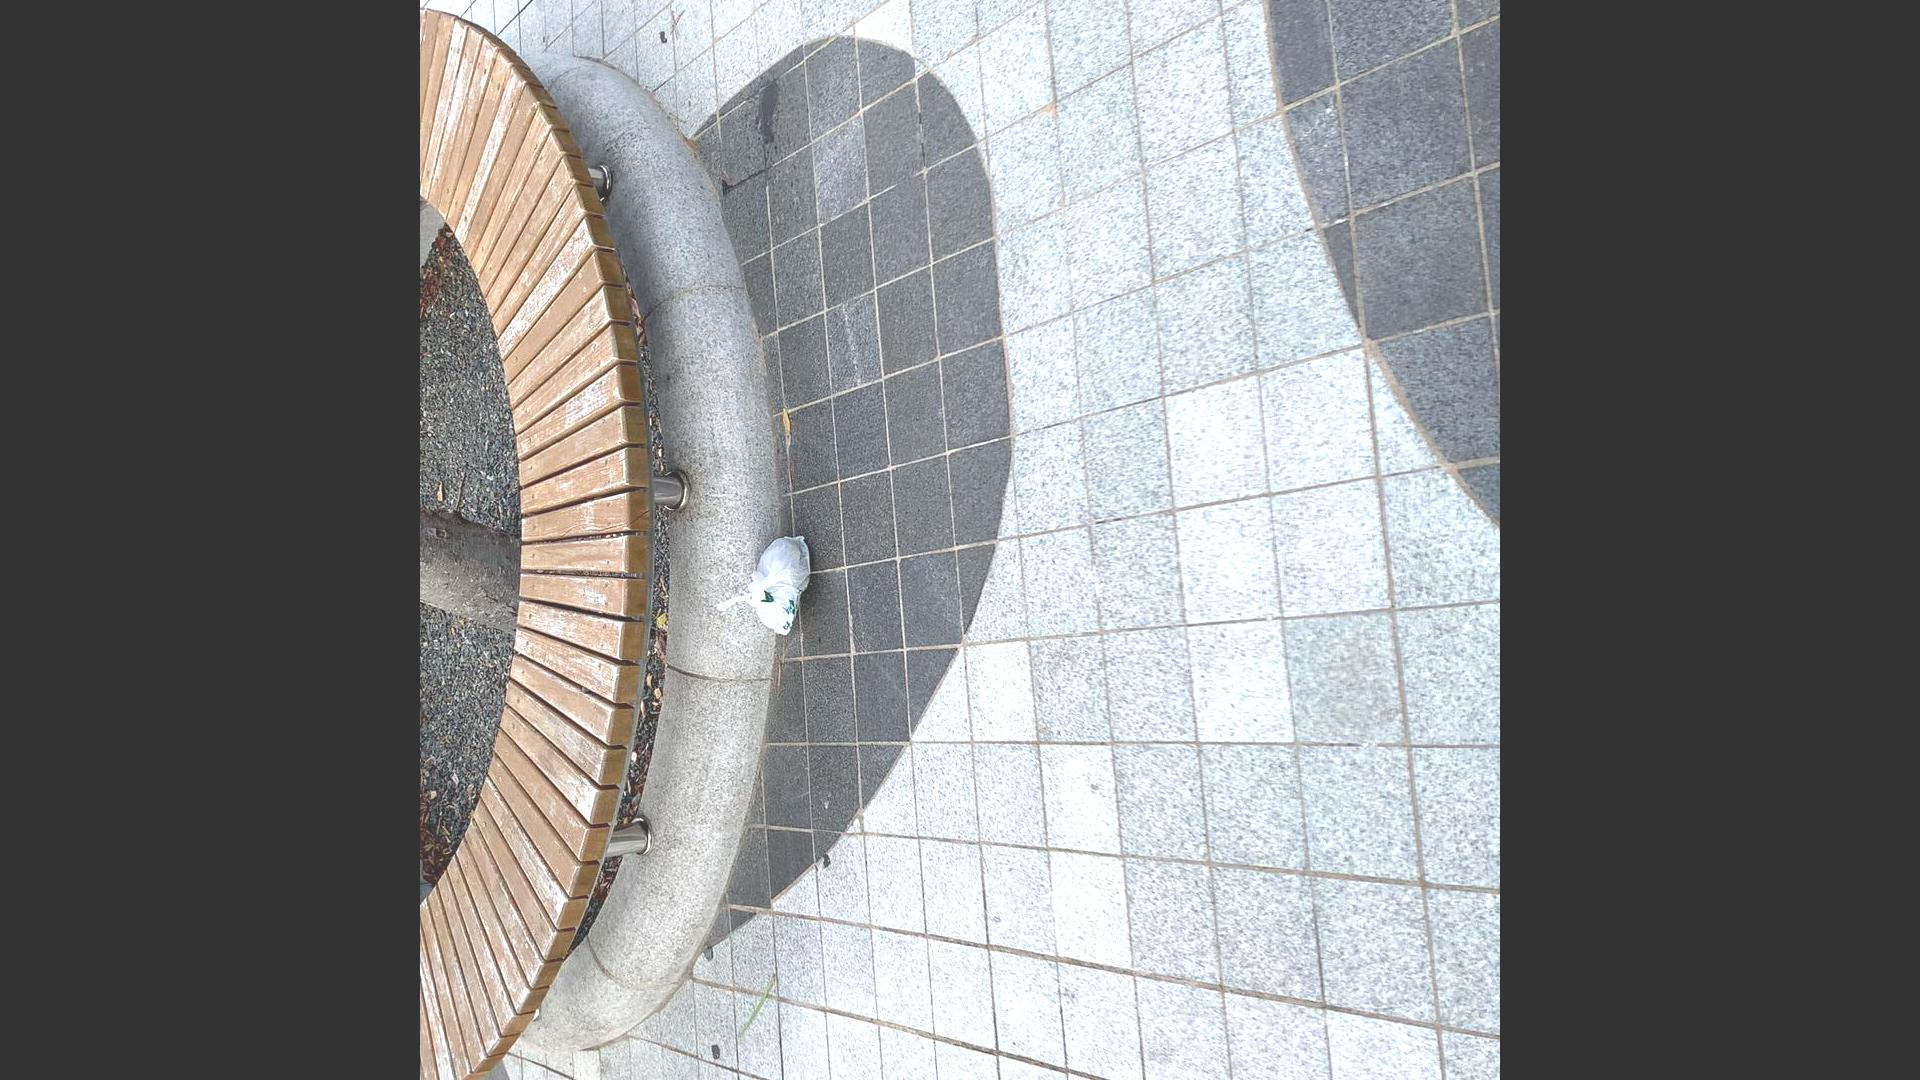white_bag: (713, 527, 815, 645)
